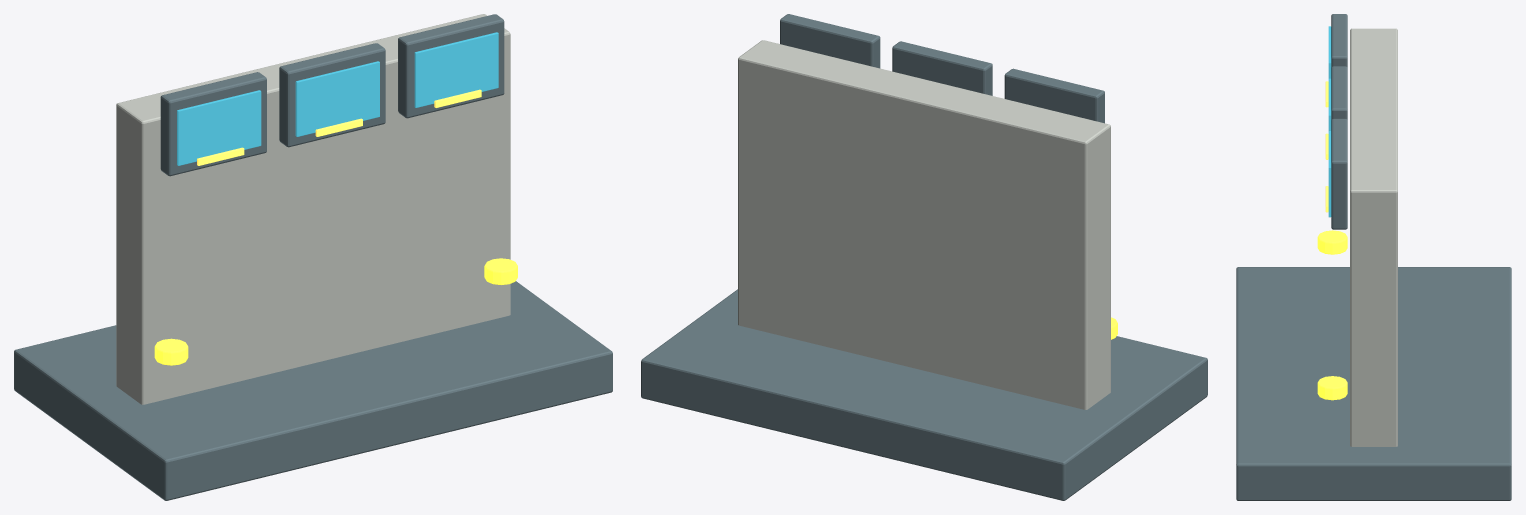
The model's file is micro_reactor_control_d1.glb.
The picture shows the model from 3 angles, left to right: view 1: azimuth 30°, elevation 25°; view 2: azimuth 150°, elevation 25°; view 3: azimuth 270°, elevation 25°; orthographic projection. The views are drawn at different scales.
Visible parts, largest first — view 1: Open instrument rack.005, Control skid base.005, Monitor glass.017, Monitor glass.015, Monitor glass.016, Monitor housing.017, Monitor housing.016, Monitor housing.015, Emergency stop.010, Emergency stop.011; view 2: Open instrument rack.005, Control skid base.005, Monitor housing.017, Monitor housing.016, Monitor housing.015; view 3: Control skid base.005, Open instrument rack.005, Monitor housing.017, Monitor housing.015, Monitor housing.016, Emergency stop.011, Emergency stop.010, Monitor glass.017.
Boxes of the visible parts, left/top/right/bottom form: Open instrument rack.005: left=116, top=14, right=510, bottom=404; Control skid base.005: left=14, top=281, right=612, bottom=500; Monitor glass.017: left=414, top=32, right=498, bottom=107; Monitor glass.015: left=177, top=90, right=261, bottom=165; Monitor glass.016: left=295, top=61, right=379, bottom=136; Monitor housing.017: left=398, top=14, right=504, bottom=118; Monitor housing.016: left=279, top=43, right=385, bottom=147; Monitor housing.015: left=160, top=72, right=266, bottom=176; Emergency stop.010: left=154, top=338, right=188, bottom=365; Emergency stop.011: left=484, top=258, right=517, bottom=284; Open instrument rack.005: left=738, top=40, right=1110, bottom=409; Control skid base.005: left=641, top=289, right=1207, bottom=500; Monitor housing.017: left=780, top=14, right=880, bottom=68; Monitor housing.016: left=892, top=41, right=992, bottom=95; Monitor housing.015: left=1004, top=68, right=1104, bottom=123; Control skid base.005: left=1236, top=267, right=1511, bottom=500; Open instrument rack.005: left=1350, top=28, right=1397, bottom=446; Monitor housing.017: left=1331, top=118, right=1347, bottom=229; Monitor housing.015: left=1331, top=14, right=1347, bottom=67; Monitor housing.016: left=1331, top=66, right=1347, bottom=119; Emergency stop.011: left=1317, top=376, right=1347, bottom=400; Emergency stop.010: left=1317, top=230, right=1347, bottom=254; Monitor glass.017: left=1328, top=131, right=1331, bottom=217.
Size of the model in its own units: 3.4 by 2.53 by 2.
